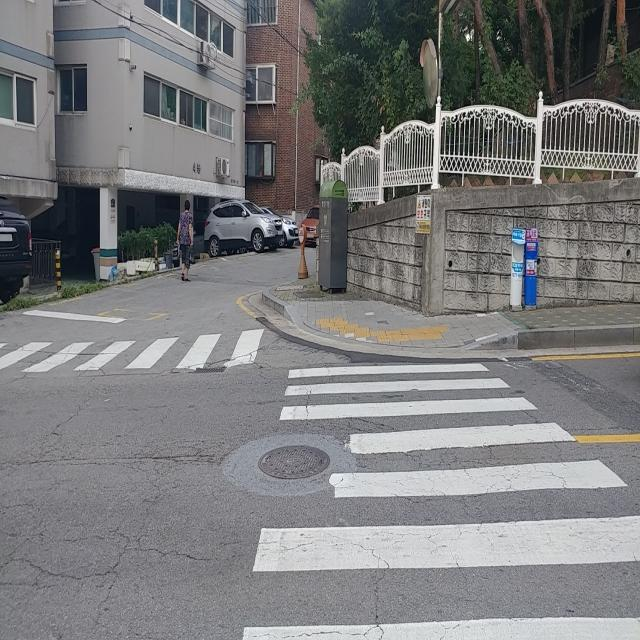횡단보도: (238, 355, 640, 640), (0, 336, 263, 375)
